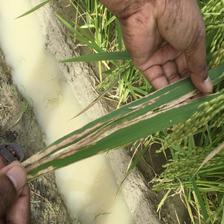2 BacterialBlight: (20, 83, 205, 157)
